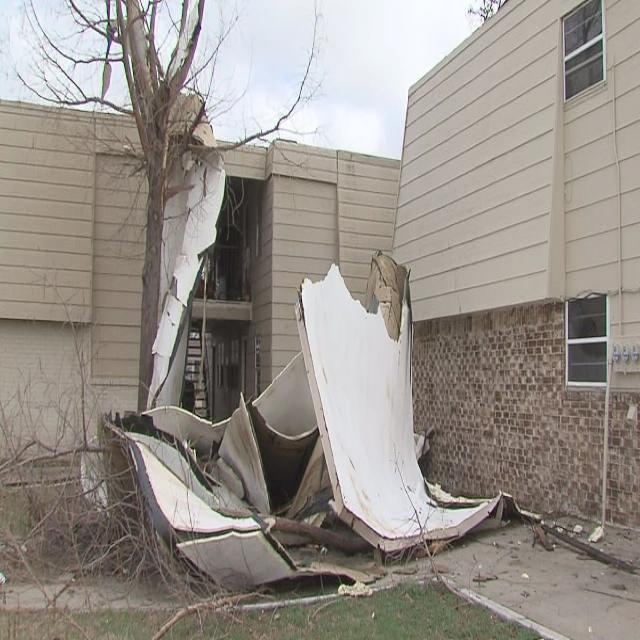Severely_Damaged: (93, 128, 543, 627)
